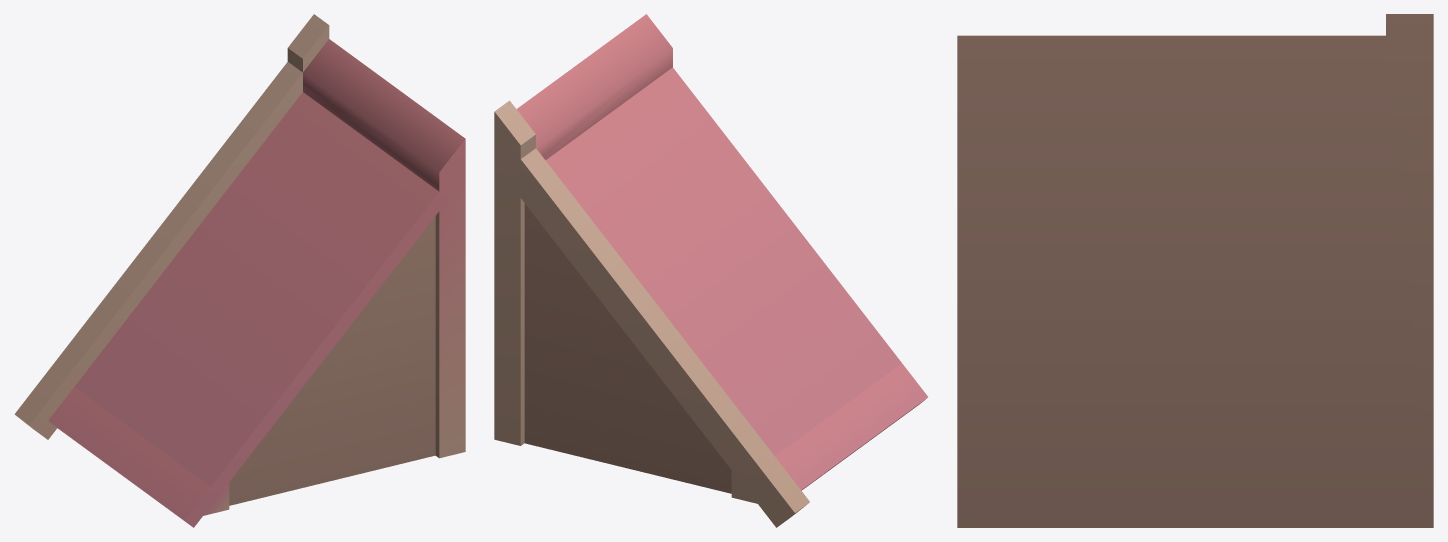
File: roof-high-left.glb
The picture shows the model from 3 angles, left to right: view 1: azimuth 30°, elevation 25°; view 2: azimuth 150°, elevation 25°; view 3: azimuth 270°, elevation 25°; orthographic projection. The views are drawn at different scales.
Parts seen in each view (by area): view 1: roof-high-left; view 2: roof-high-left; view 3: roof-high-left.
Boxes of the visible parts, x1=… form: roof-high-left: x1=14, y1=14, x2=465, y2=527; roof-high-left: x1=494, y1=14, x2=927, y2=527; roof-high-left: x1=957, y1=14, x2=1433, y2=527.
Bounding box in the file's own units: 1.14 × 1.26 × 1.
